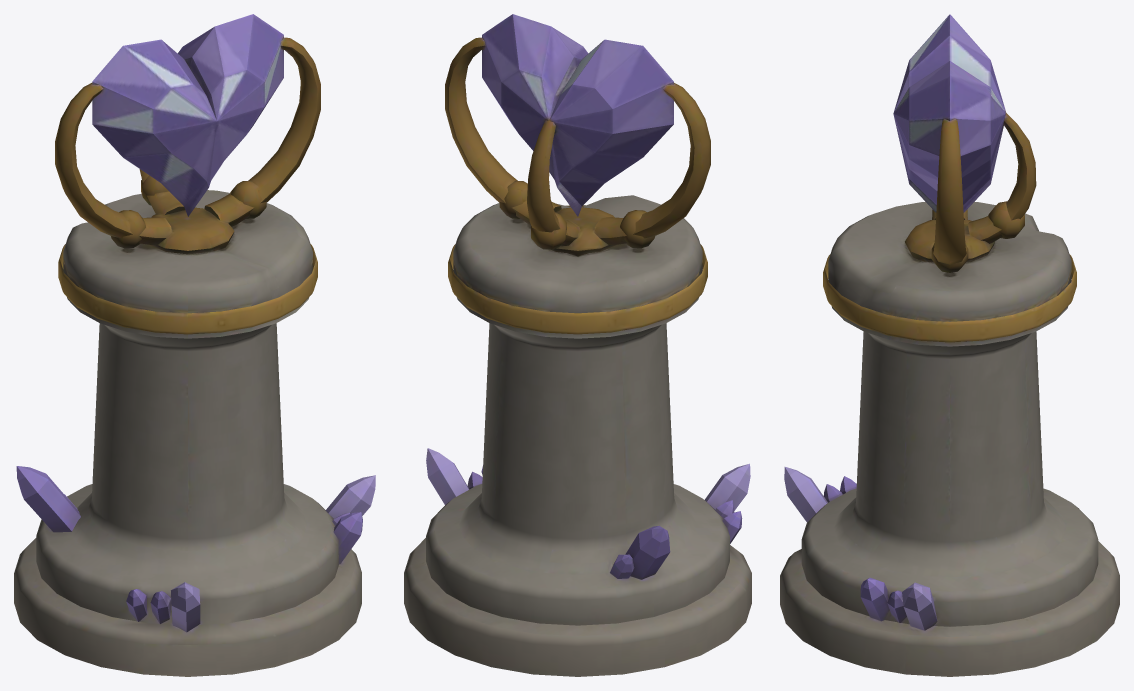
The model's file is crystal-heart.glb.
3 renders of one model, left to right at view 1: azimuth 30°, elevation 25°; view 2: azimuth 150°, elevation 25°; view 3: azimuth 270°, elevation 25°, orthographic. The views are drawn at different scales.
Parts seen in each view (by area): view 1: crystal-heart; view 2: crystal-heart; view 3: crystal-heart.
Part boxes in pixels (bbox=[...]): crystal-heart: bbox=[14, 14, 375, 676]; crystal-heart: bbox=[404, 14, 751, 676]; crystal-heart: bbox=[780, 14, 1119, 676].
Size of the model in its own units: 0.6366 by 1.09 by 0.6001.
Materials: 1 (1 with a texture image).
